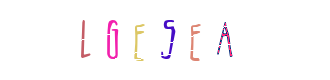A: (159, 0, 239, 80)
E: (101, 0, 181, 80), (144, 0, 224, 80)
G: (97, 0, 177, 80)
L: (96, 0, 176, 80)
S: (125, 0, 205, 80)
